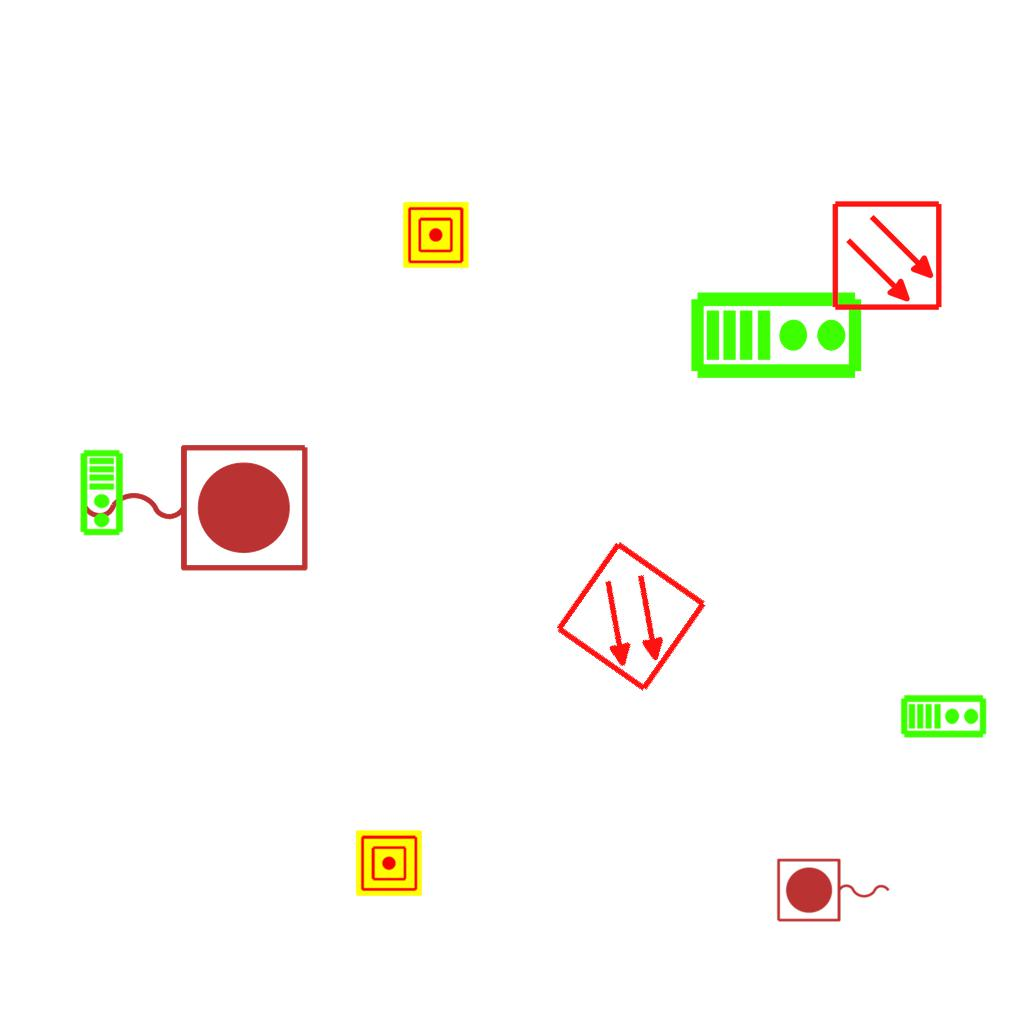Gegensprechanlage_mit_Video: (689, 286, 865, 381), (900, 692, 988, 739), (79, 449, 126, 537)
NAM-Nichtautomatischer_Melder: (403, 202, 469, 268), (356, 830, 422, 896)
RMO_Rauchmelder_optischer: (552, 537, 711, 696), (831, 199, 944, 312)
Zugtaster: (72, 434, 316, 578), (773, 855, 895, 927)
